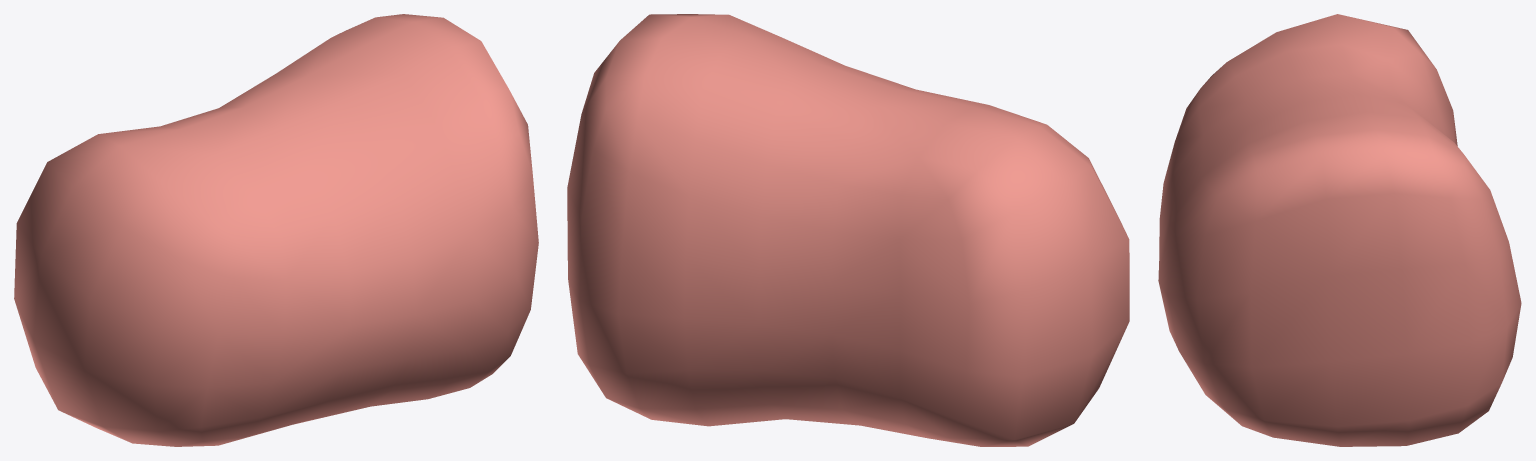
File: mixamo_humanoid_surface_rightHandRing1.fbx
3 renders of one model, left to right at view 1: azimuth 30°, elevation 25°; view 2: azimuth 150°, elevation 25°; view 3: azimuth 270°, elevation 25°, orthographic. The views are drawn at different scales.
Visible parts, largest first — view 1: surface_RightHandRing1; view 2: surface_RightHandRing1; view 3: surface_RightHandRing1.
Boxes of the visible parts, left/top/right/bottom form: surface_RightHandRing1: left=14, top=14, right=538, bottom=446; surface_RightHandRing1: left=567, top=14, right=1129, bottom=446; surface_RightHandRing1: left=1158, top=14, right=1521, bottom=446.
Size of the model in its own units: 3.34 by 2.34 by 2.39.
